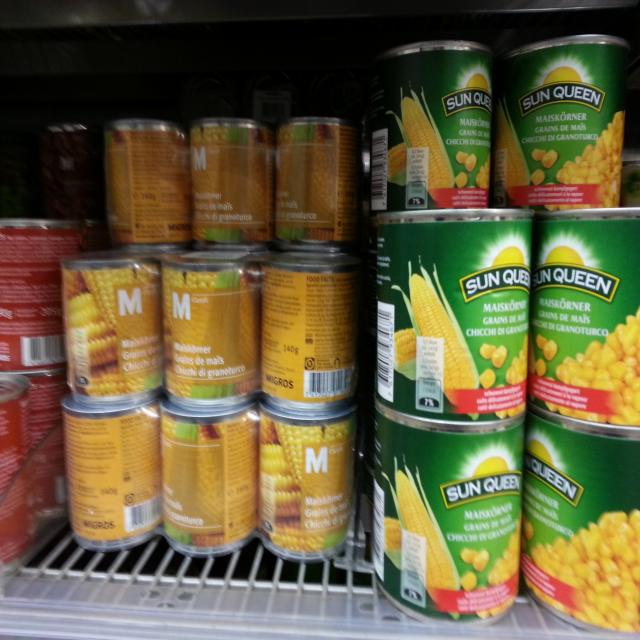Canned: (369, 392, 521, 620), (372, 210, 533, 422), (518, 396, 640, 640), (531, 208, 640, 428), (367, 37, 496, 213), (499, 32, 623, 215), (156, 398, 268, 559), (253, 257, 368, 413), (252, 398, 358, 561), (60, 387, 167, 548), (163, 246, 261, 413), (63, 250, 164, 406), (100, 113, 194, 247), (272, 118, 362, 247), (188, 118, 274, 242)
